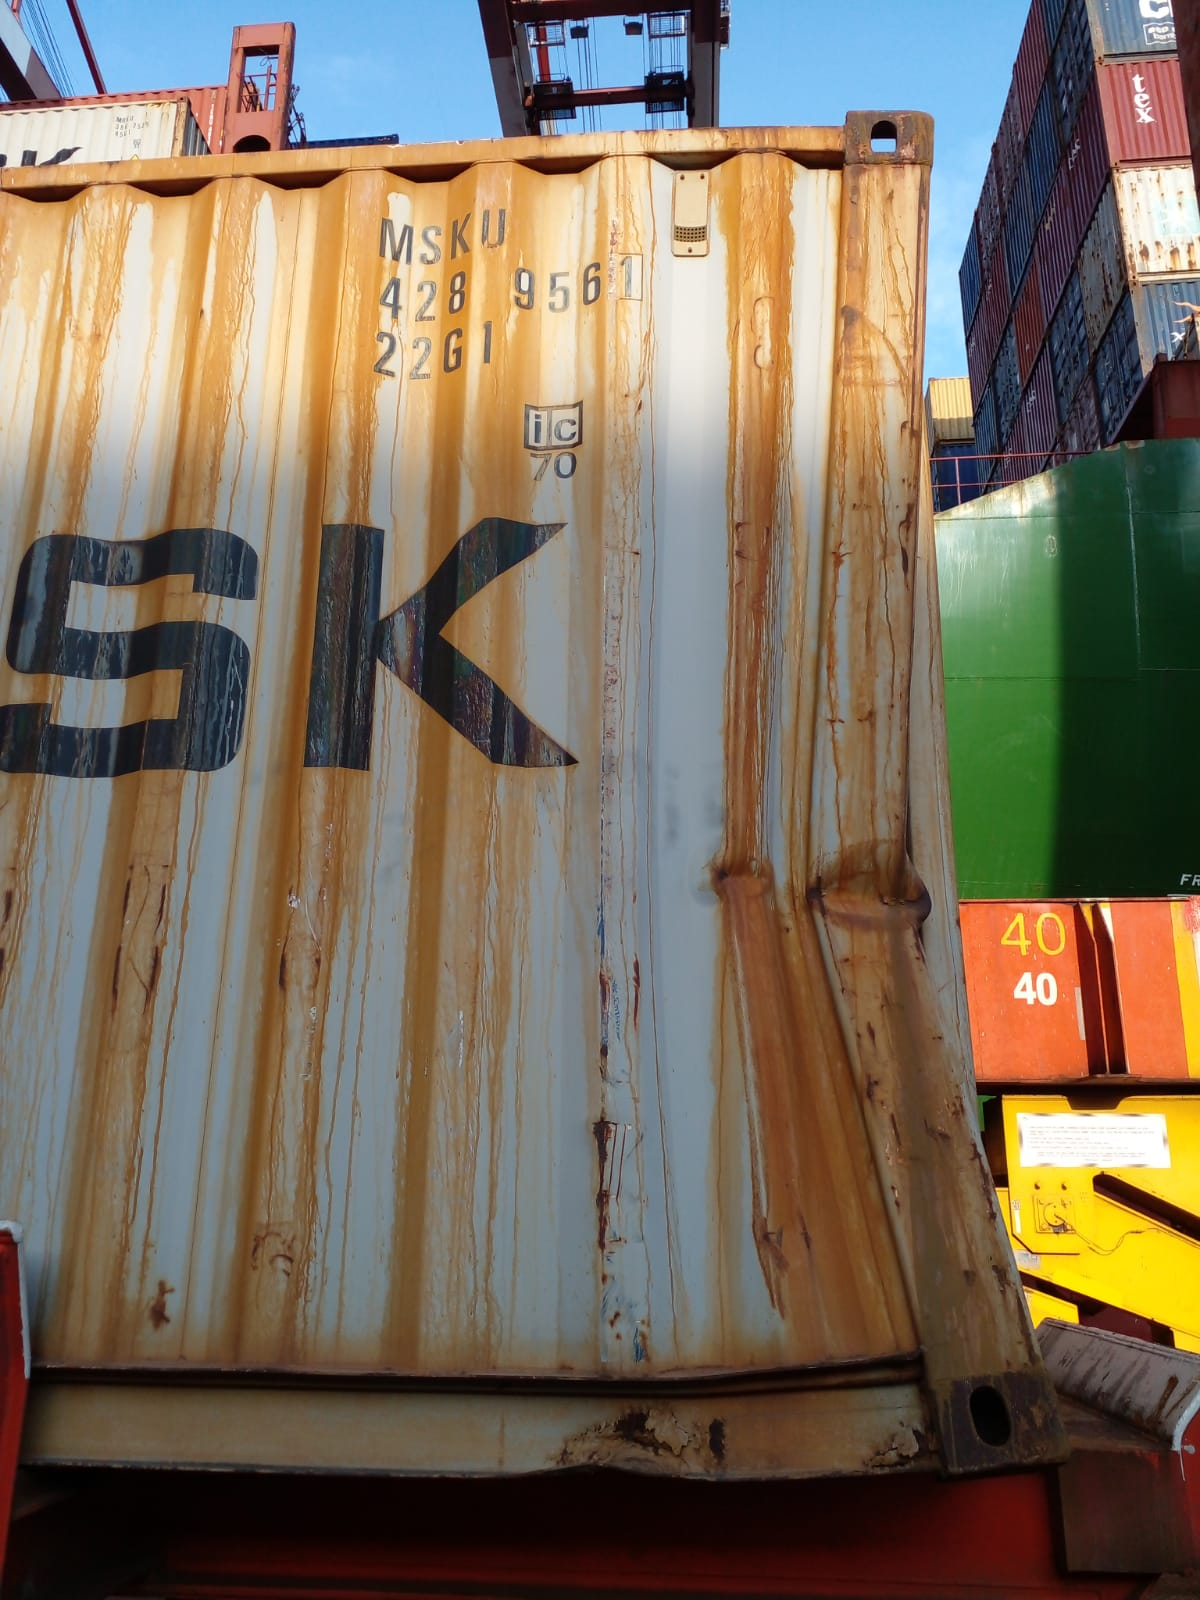dented: (749, 397, 979, 1313), (693, 808, 953, 960)
